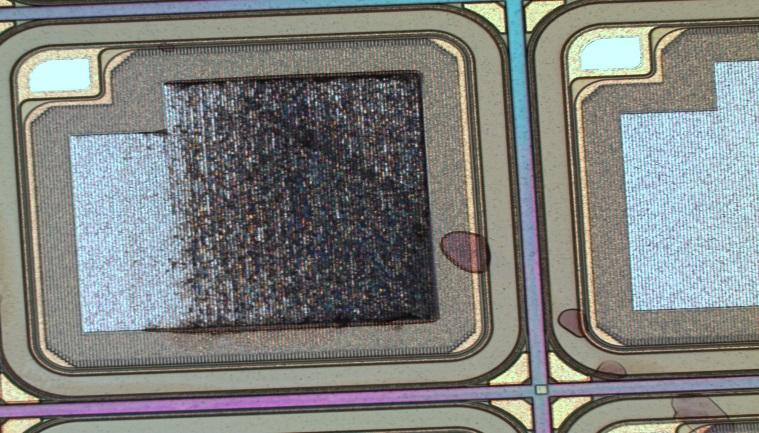SEZ BURNT: (104, 71, 736, 433)
